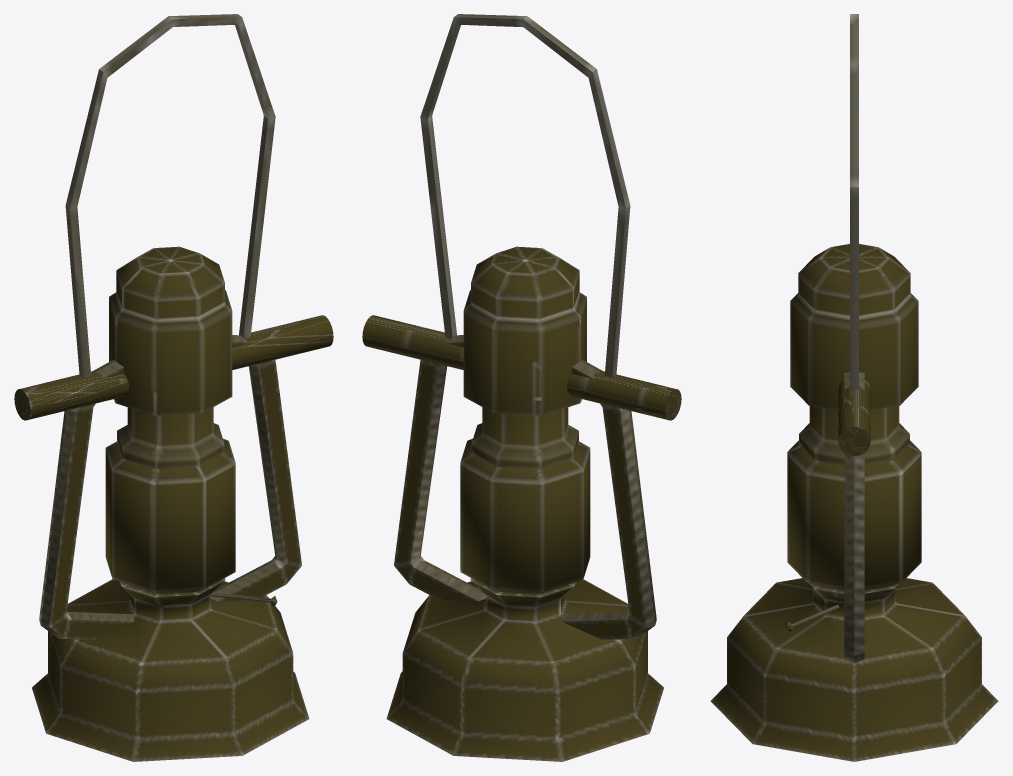
File: other_paraffinlamp.dae
3 views of the same model, side by side, from view 1: azimuth 30°, elevation 25°; view 2: azimuth 150°, elevation 25°; view 3: azimuth 270°, elevation 25° (orthographic).
Visible parts, largest first — view 1: paraffinlamp, handle, _joint_hinge_handle_paraffinlamp_150_150_nocollide_joint1; view 2: paraffinlamp, handle, _joint_hinge_handle_paraffinlamp_150_150_nocollide_joint1; view 3: paraffinlamp, handle, _joint_hinge_handle_paraffinlamp_150_150_nocollide_joint1.
Boxes of the visible parts, left/top/right/bottom form: paraffinlamp: left=32, top=246, right=309, bottom=761; handle: left=65, top=14, right=275, bottom=377; _joint_hinge_handle_paraffinlamp_150_150_nocollide_joint1: left=14, top=315, right=333, bottom=420; paraffinlamp: left=386, top=246, right=663, bottom=761; handle: left=420, top=14, right=630, bottom=377; _joint_hinge_handle_paraffinlamp_150_150_nocollide_joint1: left=362, top=315, right=681, bottom=420; paraffinlamp: left=710, top=244, right=998, bottom=761; handle: left=850, top=14, right=858, bottom=389; _joint_hinge_handle_paraffinlamp_150_150_nocollide_joint1: left=838, top=380, right=870, bottom=456.
Size of what is drawn, in the model's own units: 0.2203 by 0.4763 by 0.181.
Materials: 1 (1 with a texture image).
